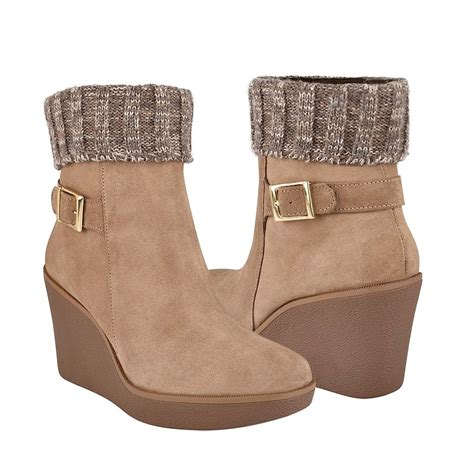gamuza: (36, 150, 421, 397)
